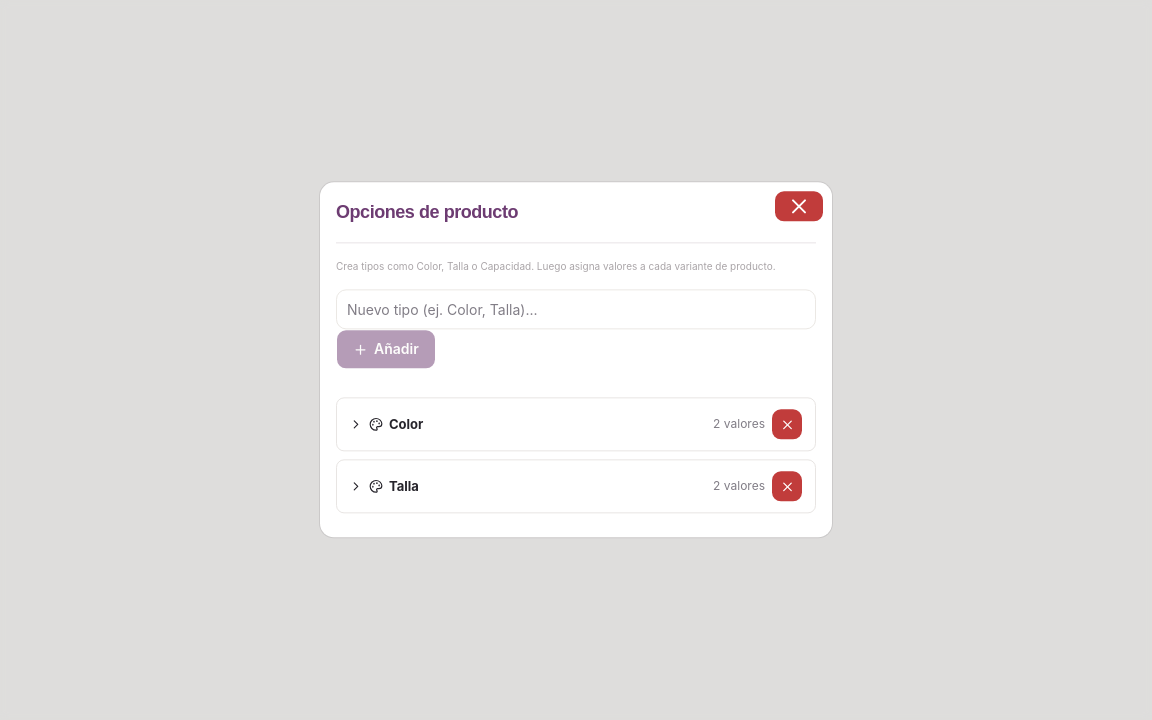
Test: OptionTypeManagerModal › Creación de tipo de opción › debería habilitar el botón cuando hay un nombre
Type "Nuevo" into the field with placeholder "Nuevo tipo (ej. Color, Talla)..." at (576, 310), box [336,290,816,330]
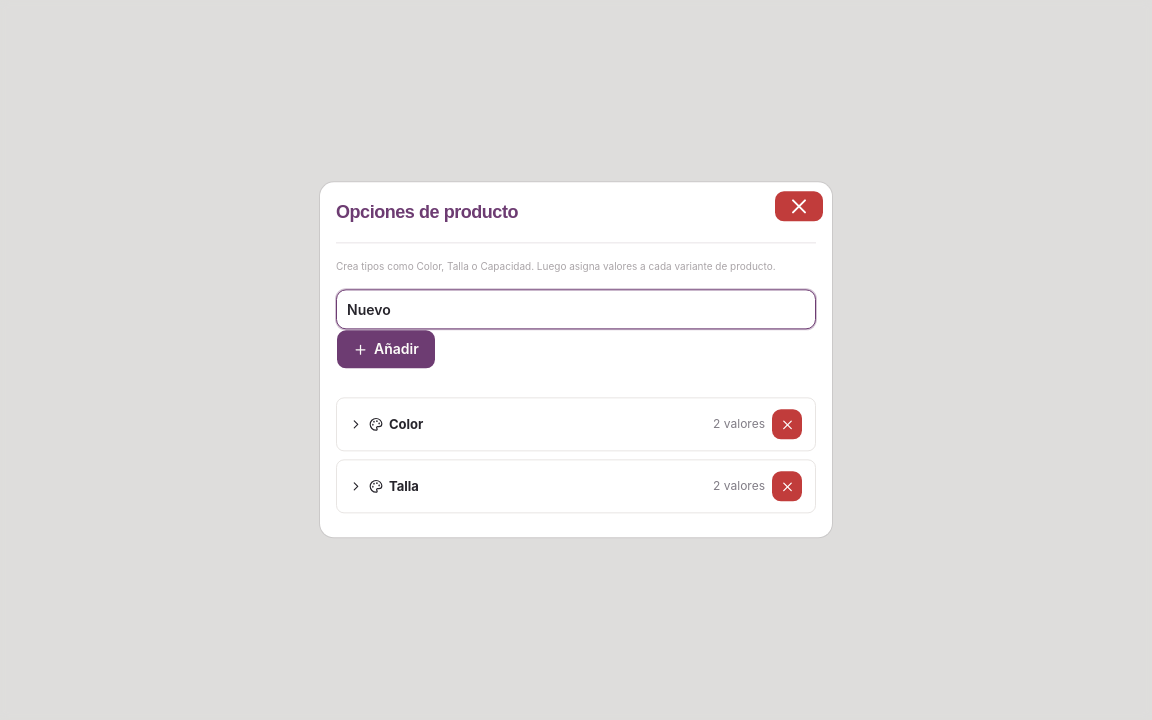
expect the button "Añadir" is enabled: met, box [336,330,436,370]
